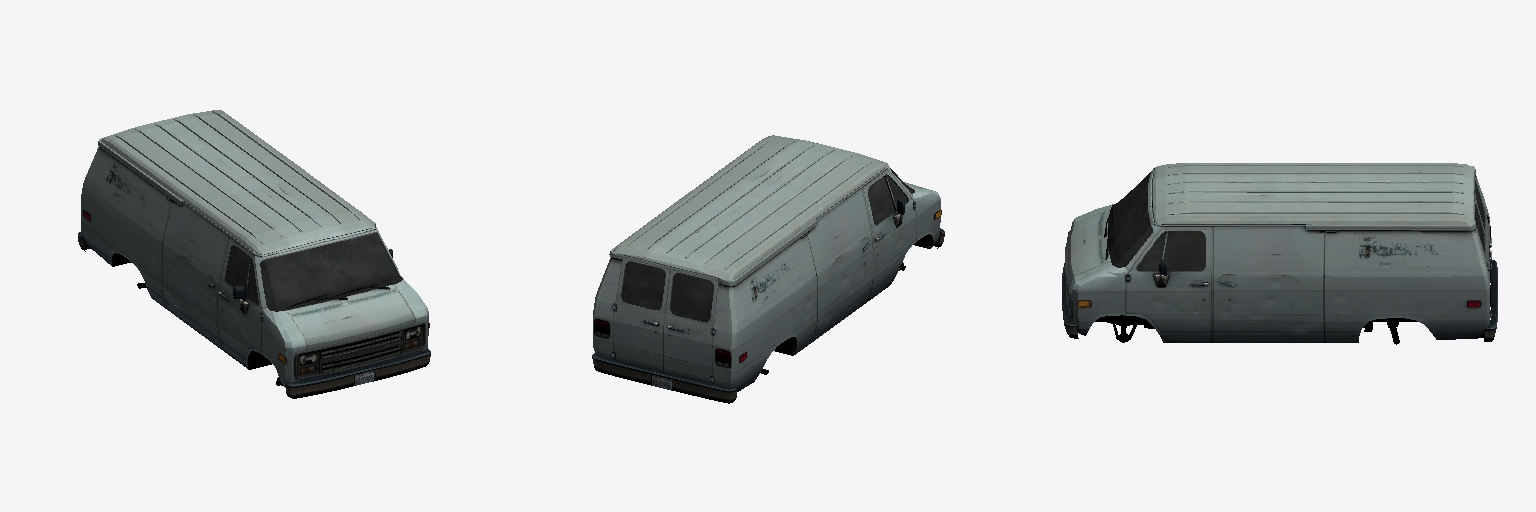
The picture shows the model from 3 angles: view 1: azimuth 30°, elevation 25°; view 2: azimuth 150°, elevation 25°; view 3: azimuth 270°, elevation 25°; orthographic projection.
Visible parts, largest first — view 1: Object_van1.jpg.001, Object_car_glass.jpg; view 2: Object_van1.jpg.001, Object_car_glass.jpg; view 3: Object_van1.jpg.001, Object_car_glass.jpg.
Boxes of the visible parts, box(x1,y1,x2,y2) form: Object_van1.jpg.001: box(78, 110, 430, 398); Object_car_glass.jpg: box(226, 233, 402, 311); Object_van1.jpg.001: box(592, 135, 944, 403); Object_car_glass.jpg: box(621, 168, 914, 322); Object_van1.jpg.001: box(1062, 163, 1497, 344); Object_car_glass.jpg: box(1108, 172, 1484, 270).
Size of the model in its own units: 4.21 by 3.54 by 10.02.
2 materials, 2 textured.